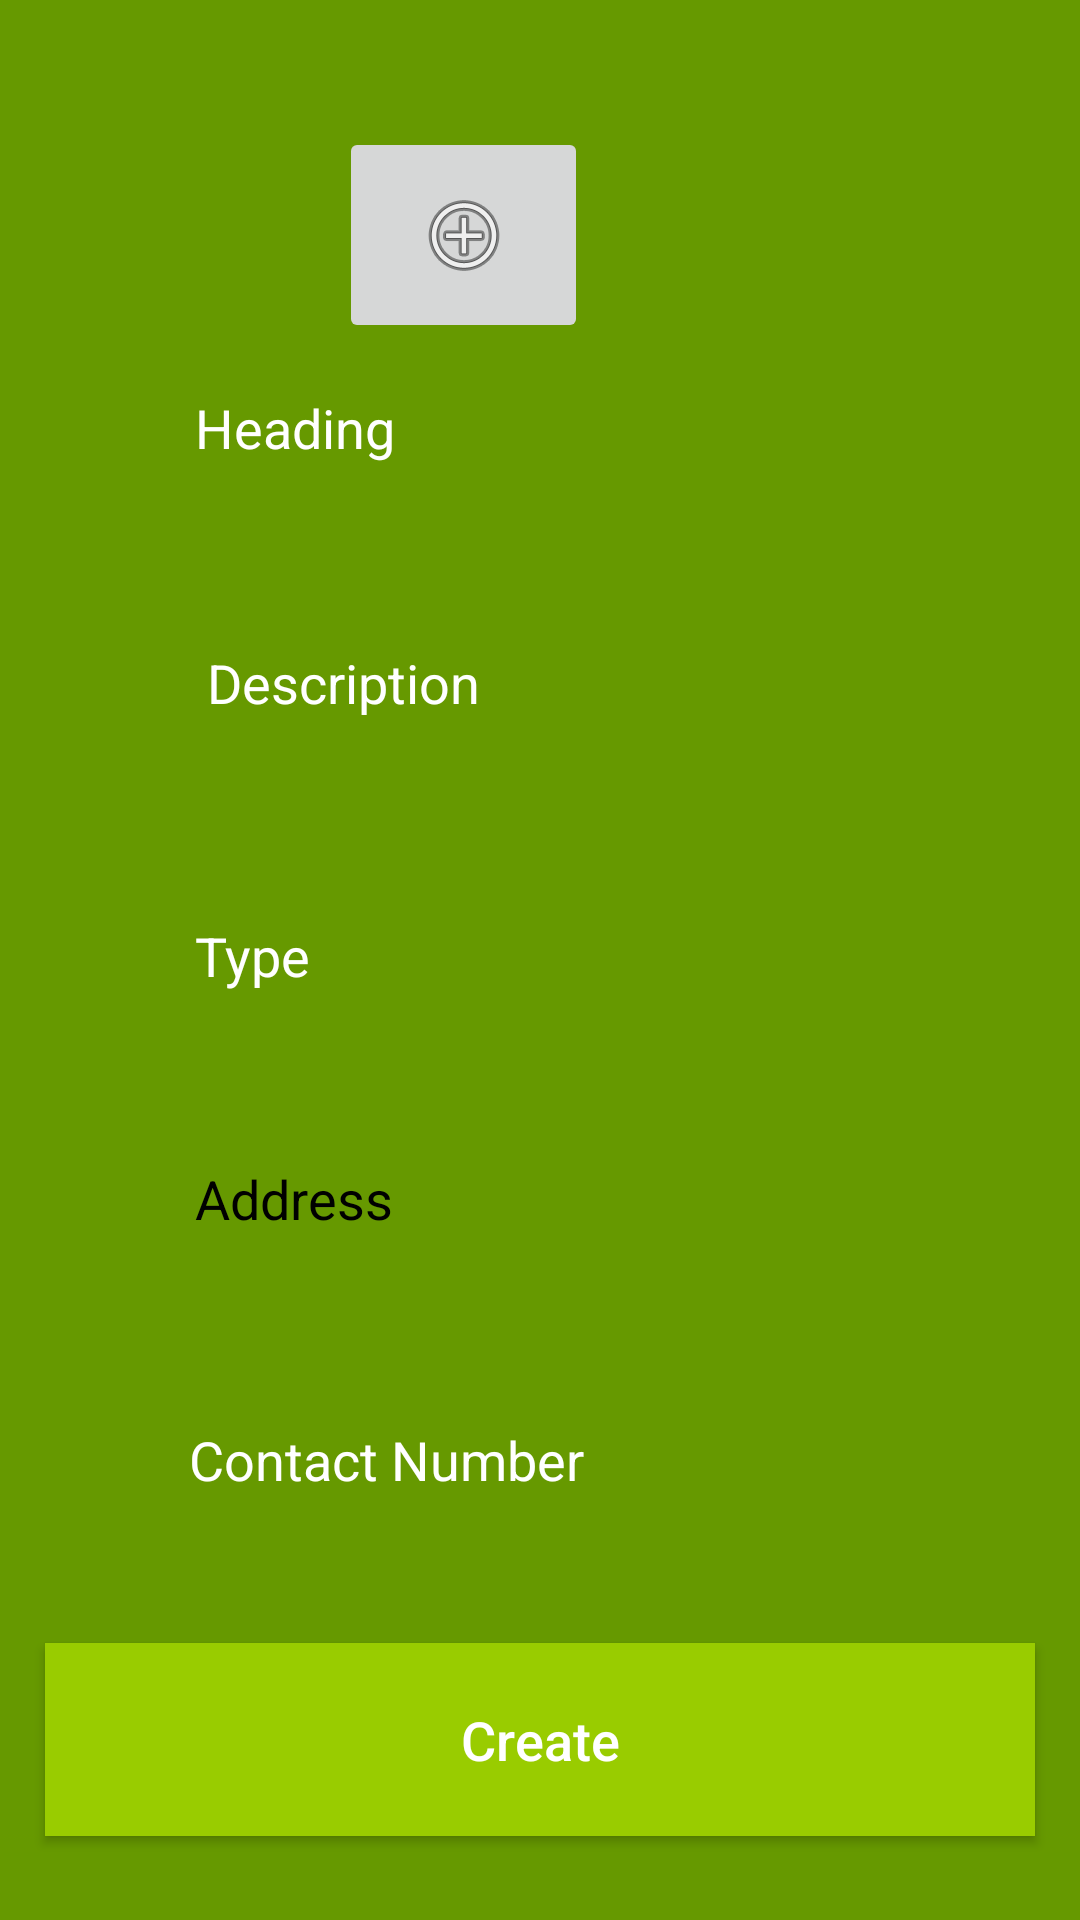

Locate icon controls on the screen. Image size 1080 × 1920, boxes as (x1, y1, x2, y2).
add: (351, 145, 576, 325)
